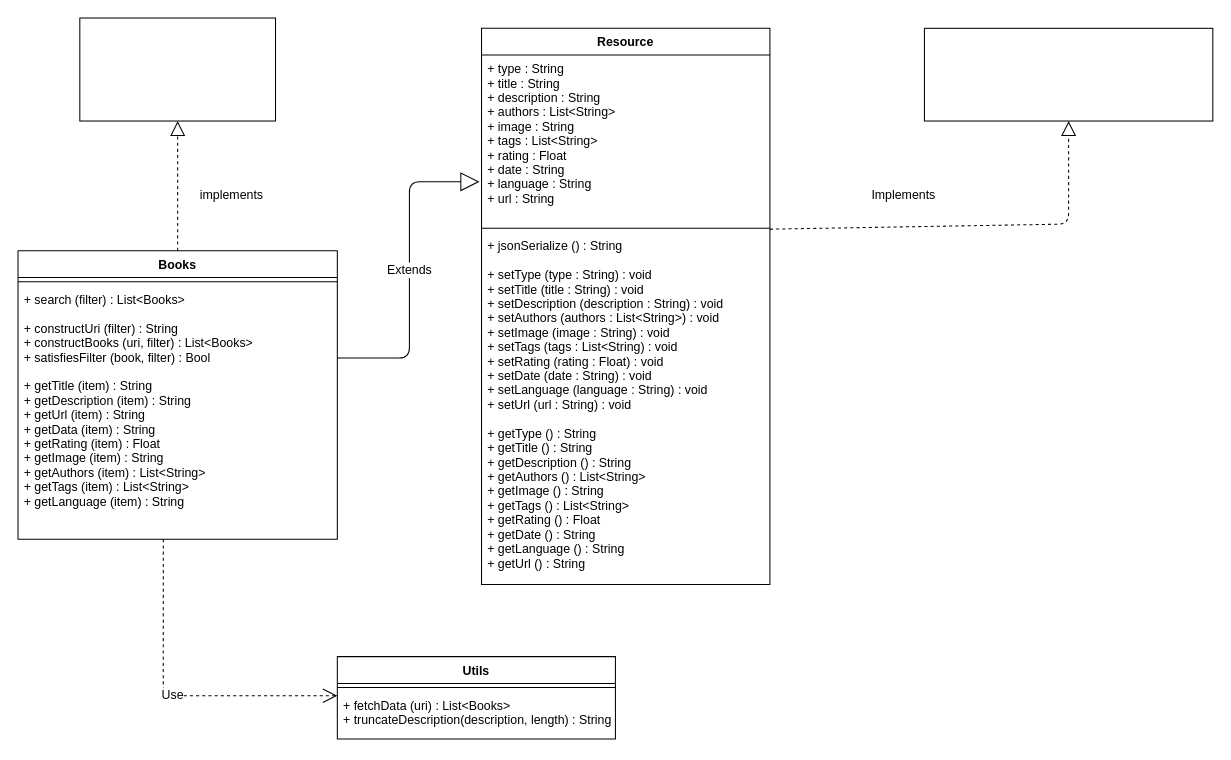
Image size: 1231x760. Some labels were removed from this diagram. Here are the shapes that lost their labels. From the top down, the centre of each, then its label:
the point at 177,69: <<Interface>> GenericResource +search(terms) : List<Books>
the point at 1068,74: <<Interface>> JsonSerializable + jsonSerialize () : String
